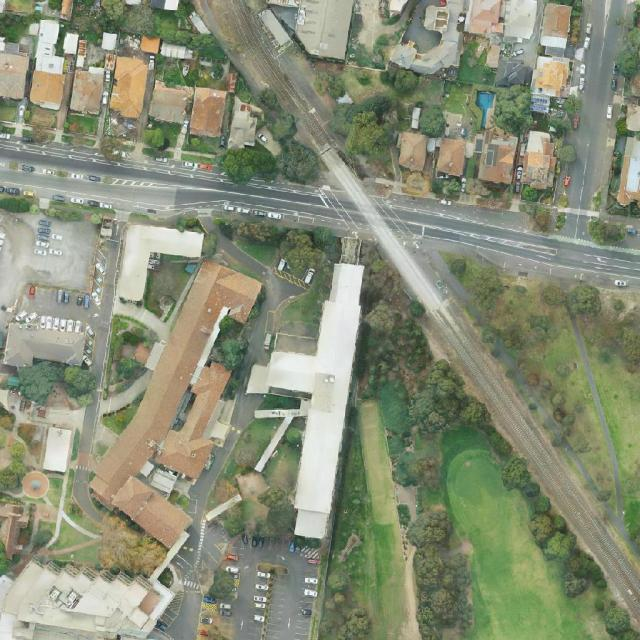building: (84, 255, 265, 524), (228, 251, 368, 540), (154, 357, 249, 482), (116, 221, 204, 311), (109, 472, 193, 550), (477, 126, 560, 191), (3, 322, 87, 377), (147, 81, 227, 137), (29, 18, 72, 110), (292, 0, 354, 61), (70, 41, 111, 117), (108, 56, 149, 119), (388, 126, 438, 176), (147, 530, 191, 585), (531, 57, 570, 112), (227, 96, 265, 152), (539, 3, 572, 57), (436, 136, 476, 178), (138, 34, 195, 63), (0, 504, 29, 560), (0, 51, 31, 101), (42, 426, 73, 474), (257, 7, 292, 48), (465, 0, 504, 35), (19, 470, 52, 501), (423, 4, 450, 32), (186, 10, 211, 40), (63, 32, 79, 55), (101, 32, 119, 51), (224, 72, 238, 93), (103, 52, 117, 72), (4, 42, 18, 53)
greenland: (290, 237, 494, 477), (320, 400, 420, 639), (422, 250, 595, 387), (493, 447, 610, 606), (405, 508, 477, 640), (213, 206, 345, 263), (588, 345, 640, 481), (145, 0, 227, 82), (85, 513, 171, 591), (542, 359, 605, 458), (275, 257, 337, 343), (104, 314, 154, 397), (324, 89, 403, 141), (226, 405, 283, 475), (17, 360, 97, 406), (271, 135, 329, 192), (251, 84, 302, 144), (99, 382, 150, 436), (216, 143, 278, 186), (0, 407, 28, 491), (284, 230, 331, 277), (457, 40, 500, 87), (495, 84, 534, 135), (215, 316, 250, 372), (344, 111, 388, 155), (377, 58, 424, 99), (394, 450, 441, 488), (413, 103, 454, 143), (197, 473, 240, 510), (532, 114, 572, 152), (550, 0, 584, 44), (584, 216, 628, 250), (437, 77, 473, 117), (0, 11, 42, 42), (158, 60, 200, 89), (427, 172, 466, 203), (142, 121, 181, 150), (255, 482, 289, 515), (221, 503, 246, 538), (182, 134, 222, 155), (258, 394, 301, 409), (43, 207, 83, 223), (67, 116, 99, 134), (518, 183, 542, 206), (142, 128, 165, 151), (175, 217, 203, 232), (563, 95, 583, 115), (465, 154, 480, 180), (557, 145, 576, 164), (81, 29, 102, 44), (285, 428, 301, 446), (615, 117, 628, 136), (211, 62, 225, 79)
metalled_road: (0, 138, 371, 252), (377, 192, 640, 293), (213, 217, 318, 362), (569, 309, 633, 532), (75, 223, 124, 401), (178, 449, 222, 581), (73, 400, 100, 520), (420, 245, 468, 305), (557, 437, 604, 498), (171, 539, 236, 581), (487, 340, 529, 391), (229, 389, 262, 435), (563, 213, 590, 242), (89, 258, 101, 286), (180, 542, 195, 557)
unmetalled_road: (46, 469, 76, 550), (58, 511, 101, 544), (49, 536, 103, 559), (22, 515, 43, 555), (42, 495, 53, 508)
